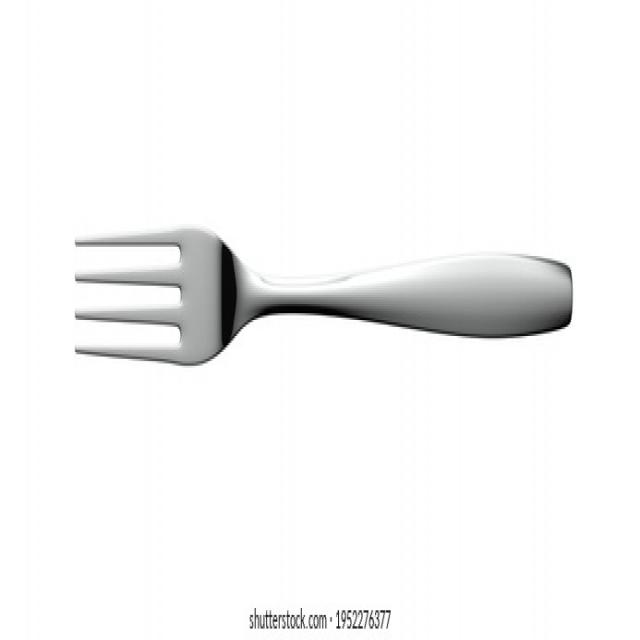fork: (73, 225, 573, 369)
